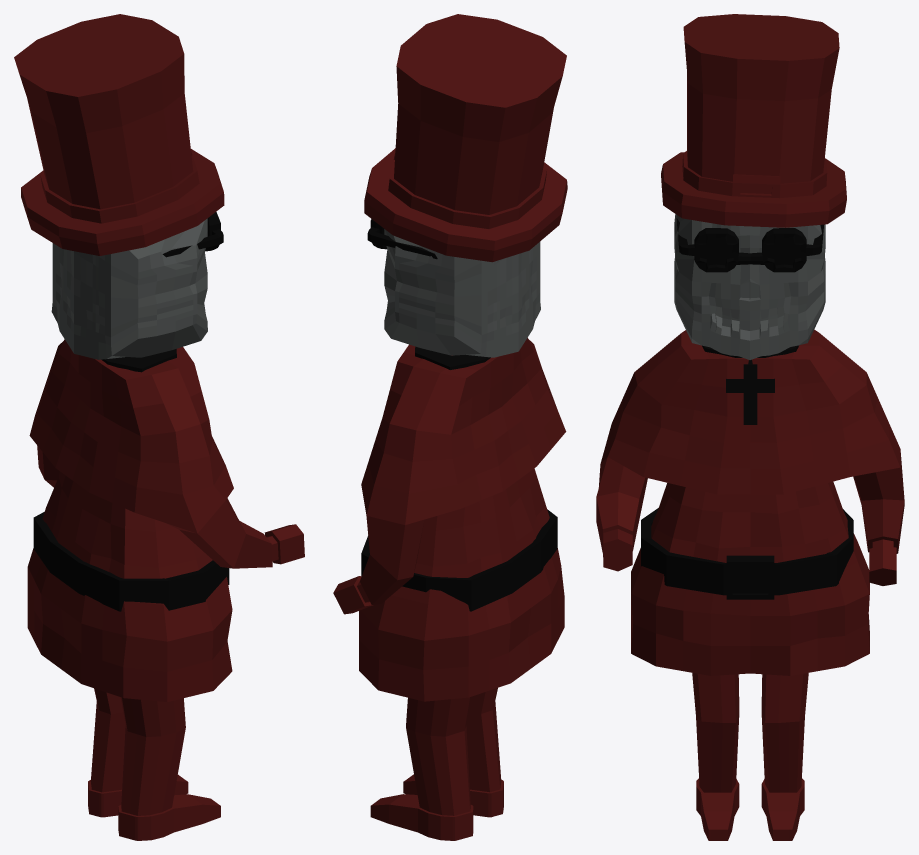
The model's file is Skelleton PlayerModel.fbx.
The picture shows the model from 3 angles, left to right: view 1: azimuth 30°, elevation 25°; view 2: azimuth 150°, elevation 25°; view 3: azimuth 270°, elevation 25°; orthographic projection.
Parts seen in each view (by area): view 1: Cube.008, Plane.001, Cube.005, Cube.010, Cube.009, Cube.007; view 2: Cube.008, Plane.001, Cube.005, Cube.010, Cube.009, Cube.007; view 3: Cube.008, Plane.001, Cube.005, Cube.010, Cube.007, Cube.009.
Boxes of the visible parts, x1,y1,x2,y2 form: Cube.008: (27,339,304,840); Plane.001: (14,14,224,255); Cube.005: (51,218,207,359); Cube.010: (33,512,229,611); Cube.009: (101,349,176,372); Cube.007: (162,212,223,257); Cube.008: (333,337,566,840); Plane.001: (364,14,567,262); Cube.005: (384,229,540,357); Cube.010: (361,509,557,611); Cube.009: (415,346,490,369); Cube.007: (367,219,437,259); Cube.008: (596,329,904,840); Plane.001: (661,14,846,227); Cube.005: (674,214,825,359); Cube.010: (641,508,853,599); Cube.007: (676,218,823,272); Cube.009: (702,345,798,424).
Bounding box in the file's own units: 216 × 829 × 301.
